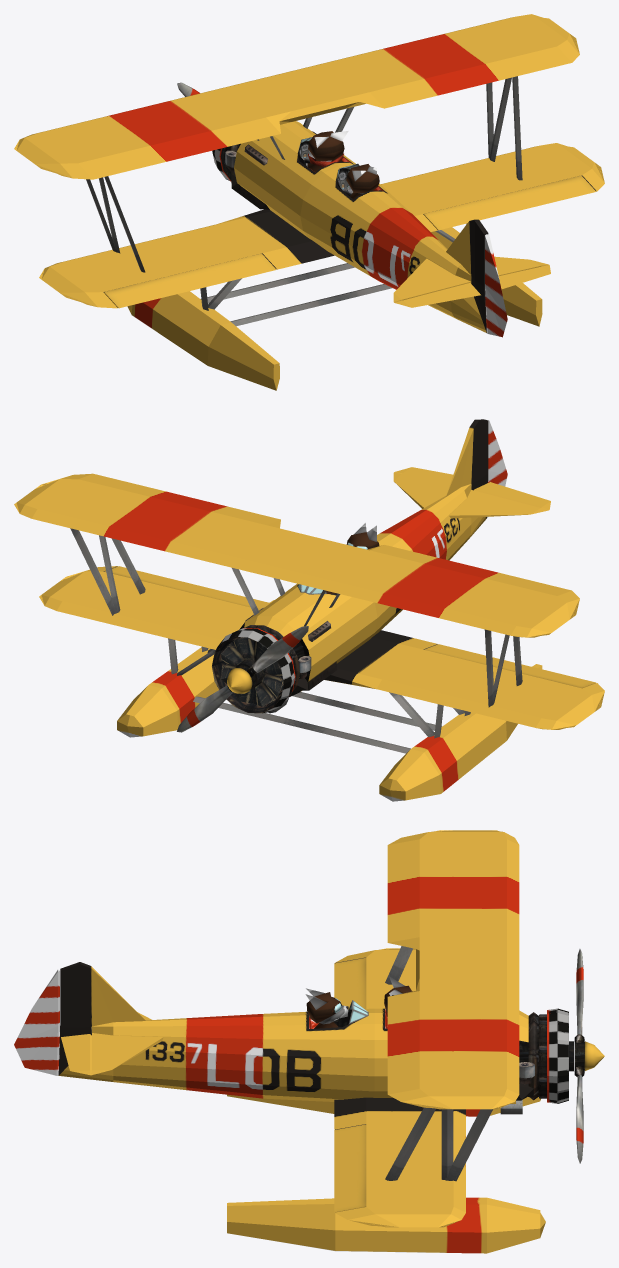
Rendered from airplane.gltf.
The picture shows the model from 3 angles, top to bottom: view 1: azimuth 30°, elevation 25°; view 2: azimuth 150°, elevation 25°; view 3: azimuth 270°, elevation 25°; orthographic projection. The views are drawn at different scales.
Parts seen in each view (by area): view 1: Plane, Pilot, CoPilot; view 2: Plane, Propeller, CoPilot; view 3: Plane, Propeller, CoPilot.
Part boxes in pixels (x1,y1,x2,y2): Plane: [14, 14, 604, 390]; Pilot: [306, 131, 348, 172]; CoPilot: [346, 164, 379, 199]; Plane: [14, 419, 604, 801]; Propeller: [177, 626, 308, 732]; CoPilot: [346, 523, 379, 549]; Plane: [14, 830, 574, 1253]; Propeller: [574, 949, 604, 1163]; CoPilot: [305, 988, 348, 1028].
Size of what is drawn, in the model's own units: 15.9 by 5.84 by 14.24.
4 materials, 4 textured.
